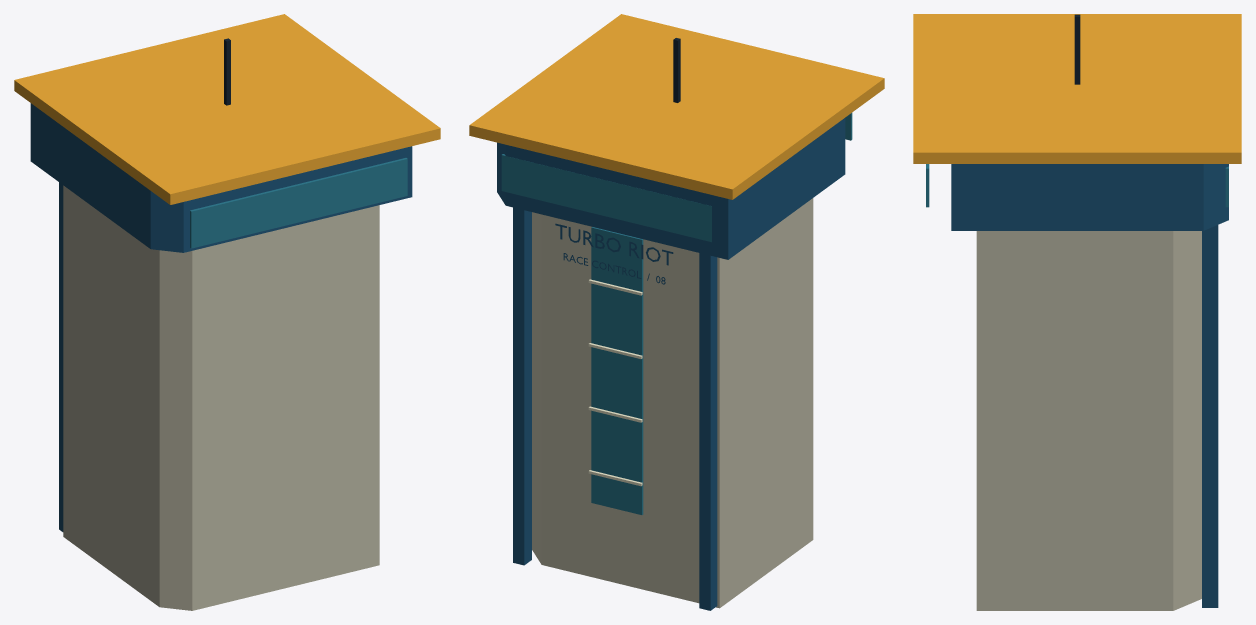
Rendered from control_tower.glb.
3 views of the same model, side by side, from view 1: azimuth 30°, elevation 25°; view 2: azimuth 150°, elevation 25°; view 3: azimuth 270°, elevation 25° (orthographic). The views are drawn at different scales.
Visible parts, largest first — view 1: TowerCore, CrownRoof, ControlCabin, PanoramaGlass, VerticalFins; view 2: TowerCore, CrownRoof, VerticalWindowBand, ControlCabin, VerticalFins, PanoramaGlass, WindowTransoms, ControlSign; view 3: TowerCore, CrownRoof, ControlCabin, VerticalFins, RoofMast.
Boxes of the visible parts, box(x1,y1,x2,y2) form: TowerCore: box(63, 185, 379, 610); CrownRoof: box(14, 14, 440, 204); ControlCabin: box(30, 103, 412, 252); PanoramaGlass: box(190, 158, 407, 248); VerticalFins: box(59, 182, 63, 531); TowerCore: box(532, 198, 813, 608); CrownRoof: box(469, 14, 884, 199); VerticalWindowBand: box(591, 227, 643, 514); ControlCabin: box(497, 118, 845, 259); VerticalFins: box(513, 207, 717, 610); PanoramaGlass: box(501, 113, 852, 242); WindowTransoms: box(588, 279, 642, 486); ControlSign: box(555, 223, 673, 265); TowerCore: box(976, 231, 1201, 610); CrownRoof: box(913, 14, 1241, 163); ControlCabin: box(951, 164, 1228, 230); VerticalFins: box(1202, 225, 1218, 607); RoofMast: box(1074, 14, 1080, 84).
Size of the model in its own units: 13 by 23.68 by 13.
